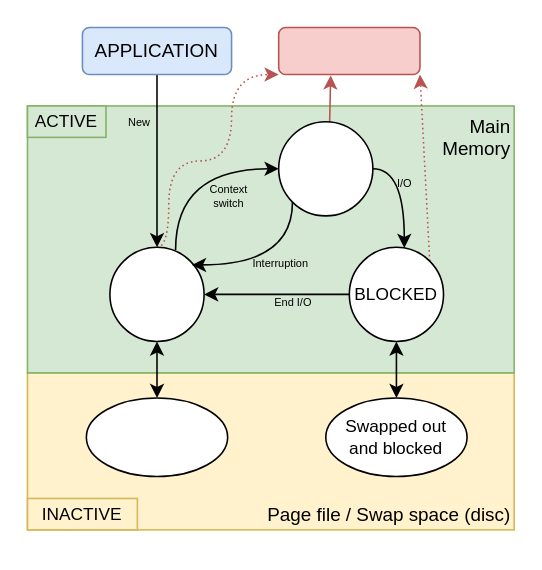
The diagram is 542 pixels wide and 570 high, and some of its shapes have lost their labels. Each missing label, with the centre of its shape:
"RUNNING" belongs at point (325, 168).
"Swapped out and waiting" belongs at point (156, 436).
"TERMINATED" belongs at point (348, 50).
"WAITING" belongs at point (156, 293).
